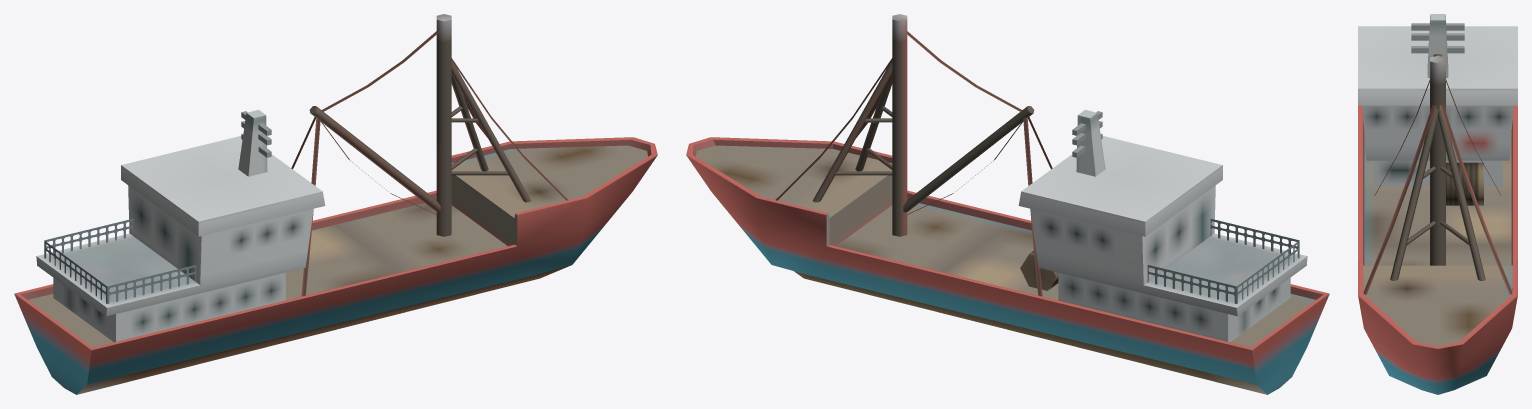
Rendered from Coach_Building_Hooker_L3_02_Mod.fbx.
3 renders of one model, left to right at view 1: azimuth 30°, elevation 25°; view 2: azimuth 150°, elevation 25°; view 3: azimuth 270°, elevation 25°, orthographic. The views are drawn at different scales.
Parts seen in each view (by area): view 1: Coach_Building_Hooker_L3_02_Mod; view 2: Coach_Building_Hooker_L3_02_Mod; view 3: Coach_Building_Hooker_L3_02_Mod.
Boxes of the visible parts, box(x1,y1,x2,y2) form: Coach_Building_Hooker_L3_02_Mod: box(14, 14, 657, 394); Coach_Building_Hooker_L3_02_Mod: box(686, 14, 1329, 394); Coach_Building_Hooker_L3_02_Mod: box(1358, 14, 1517, 394).
Size of the model in its own units: 2066 by 910 by 460.
